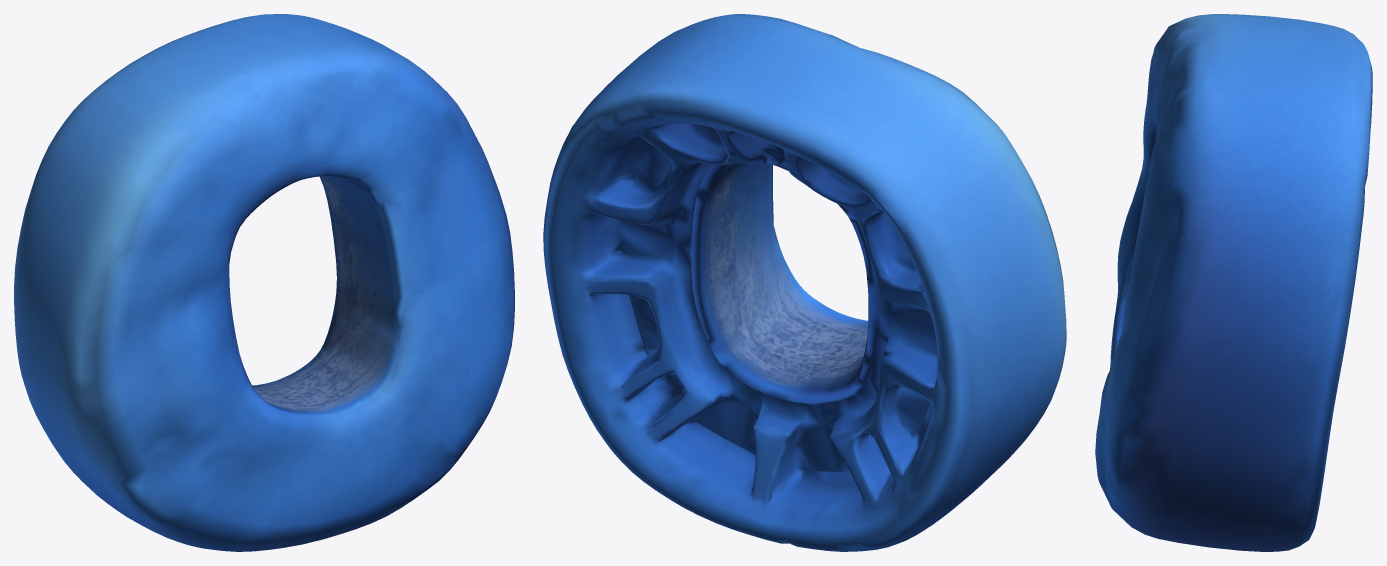
File: Stack 0B - O.glb
3 views of the same model, side by side, from view 1: azimuth 30°, elevation 25°; view 2: azimuth 150°, elevation 25°; view 3: azimuth 270°, elevation 25° (orthographic). The views are drawn at different scales.
Visible parts, largest first — view 1: Stack 0B - O · mesh; view 2: Stack 0B - O · mesh; view 3: Stack 0B - O · mesh.
Part boxes in pixels (x1=…): Stack 0B - O · mesh: x1=14, y1=14, x2=514, y2=551; Stack 0B - O · mesh: x1=543, y1=14, x2=1066, y2=551; Stack 0B - O · mesh: x1=1095, y1=14, x2=1372, y2=551.
Size of the model in its own units: 0.9854 by 1 by 0.5259.
1 material, 1 textured.
